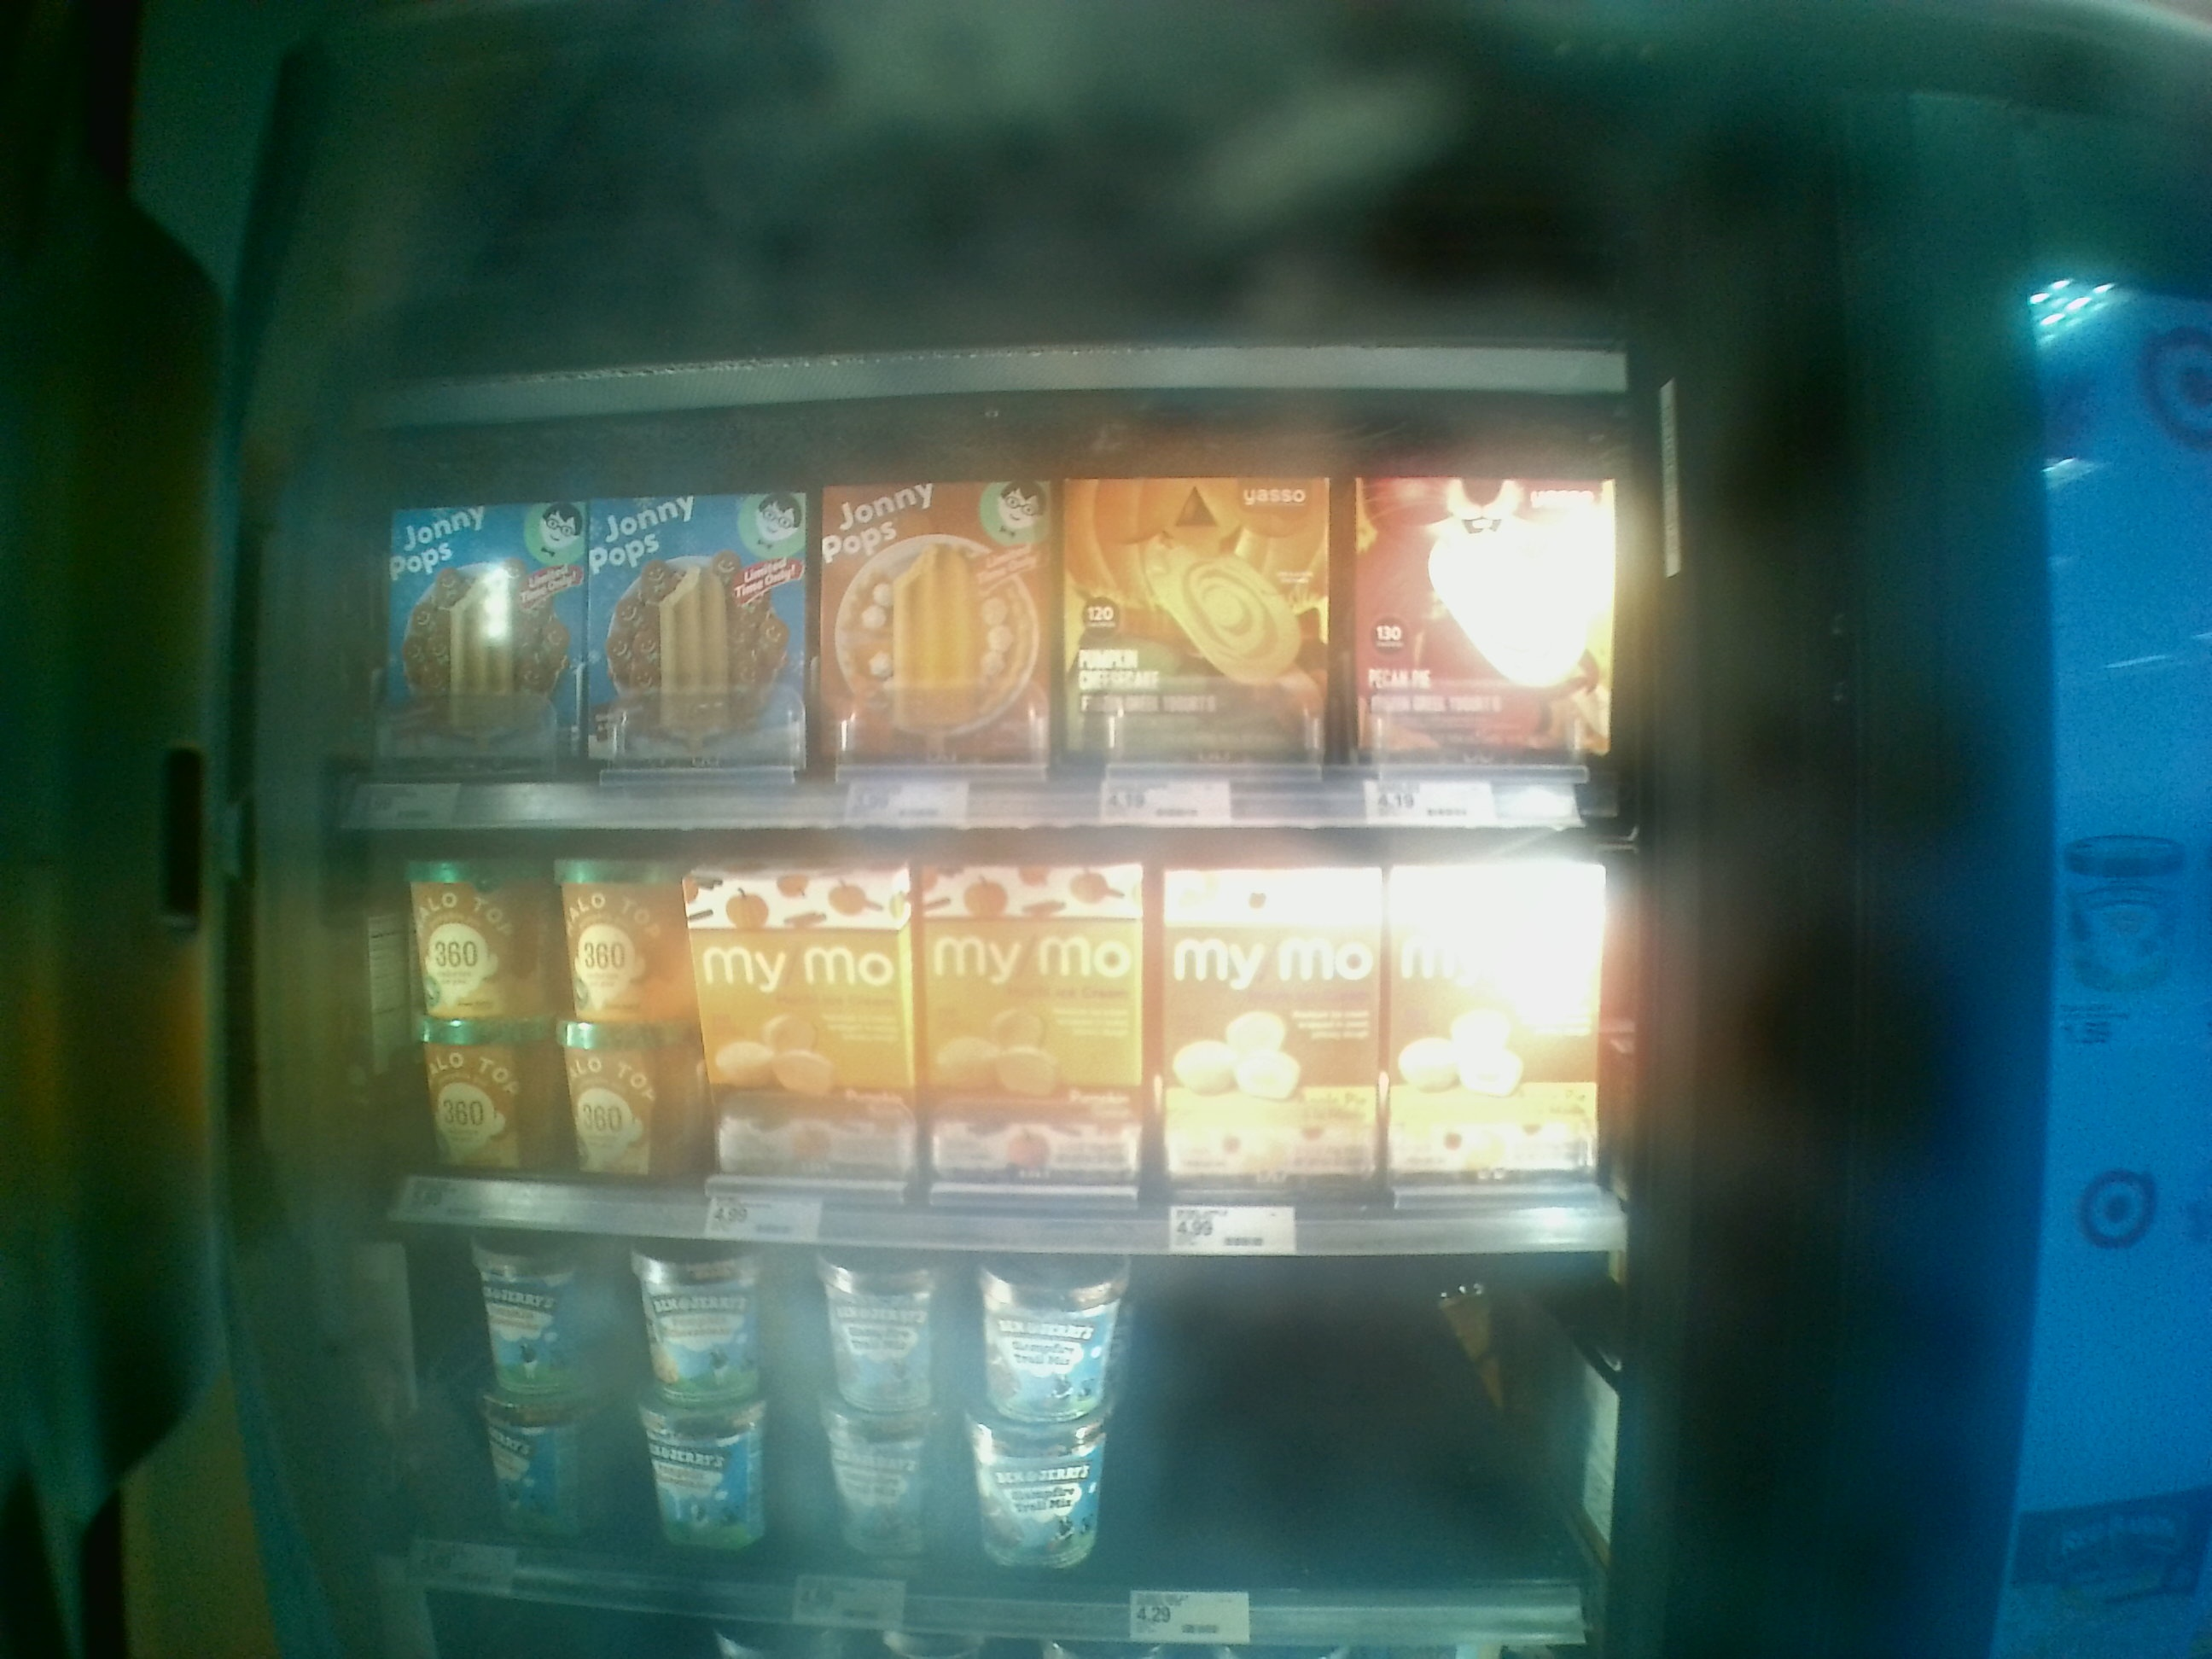shelf: (303, 798, 1615, 1239), (301, 460, 1622, 816)
